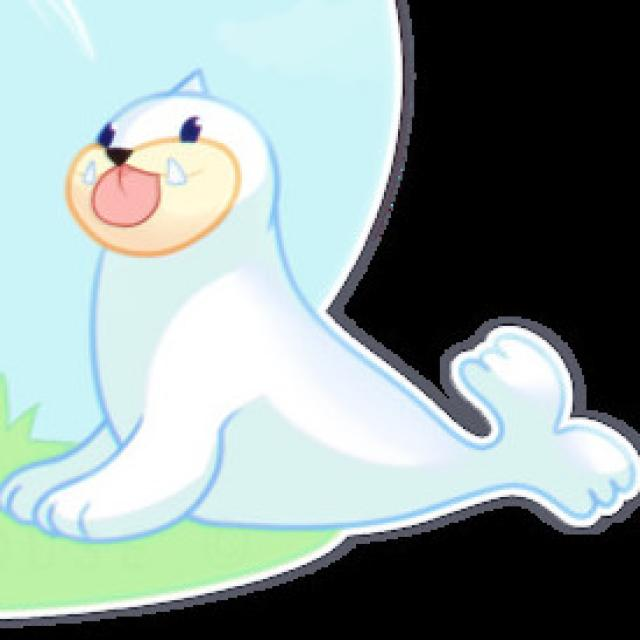Seel: (30, 75, 583, 543)
